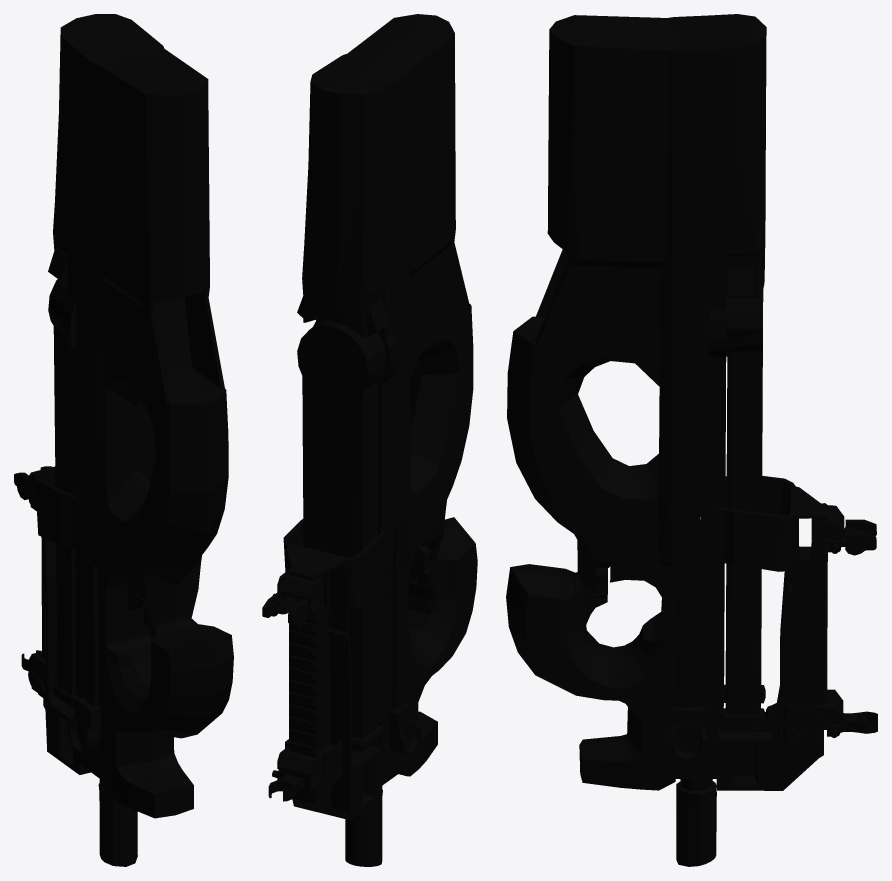
File: w_smg_p90.obj
The picture shows the model from 3 angles, left to right: view 1: azimuth 30°, elevation 25°; view 2: azimuth 150°, elevation 25°; view 3: azimuth 270°, elevation 25°; orthographic projection. The views are drawn at different scales.
Size of the model in its own units: 0.0228 by 0.1965 by 0.0797.
Materials: 1 (1 with a texture image).
